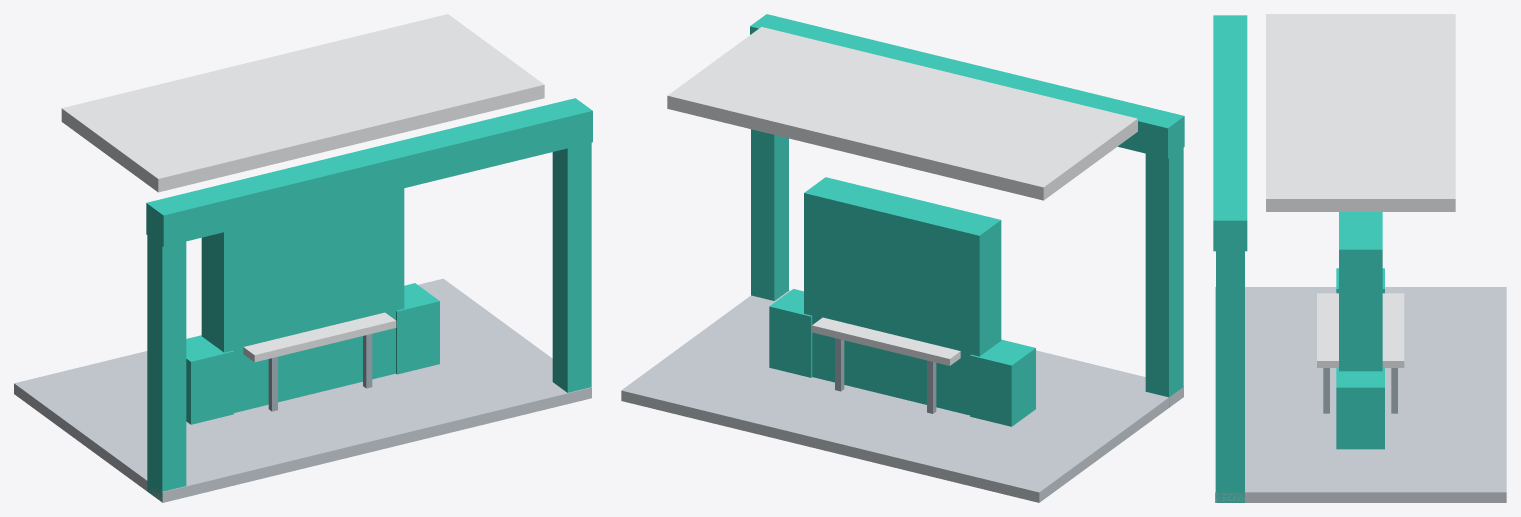
The picture shows the model from 3 angles, left to right: view 1: azimuth 30°, elevation 25°; view 2: azimuth 150°, elevation 25°; view 3: azimuth 270°, elevation 25°; orthographic projection. The views are drawn at different scales.
Visible parts, largest first — view 1: Exhibition Booth Concept; view 2: Exhibition Booth Concept; view 3: Exhibition Booth Concept.
Part boxes in pixels (x1,y1,x2,y2): Exhibition Booth Concept: (14, 14, 592, 502); Exhibition Booth Concept: (621, 14, 1184, 502); Exhibition Booth Concept: (1213, 14, 1506, 502).
Bounding box in the file's own units: 5 × 3.34 × 3.01.
